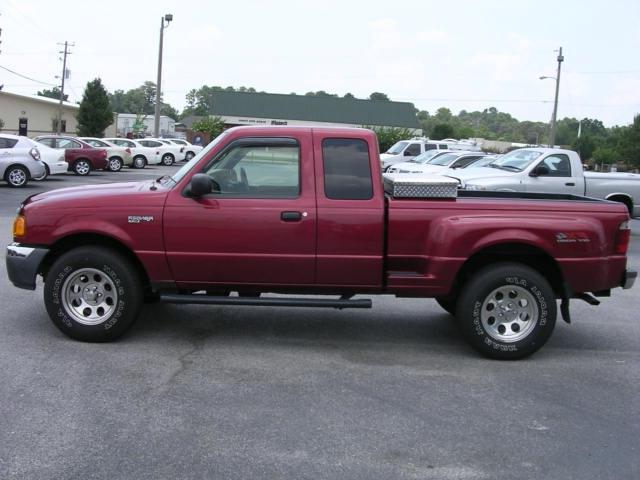Car: (2, 102, 640, 399), (440, 132, 640, 250)
